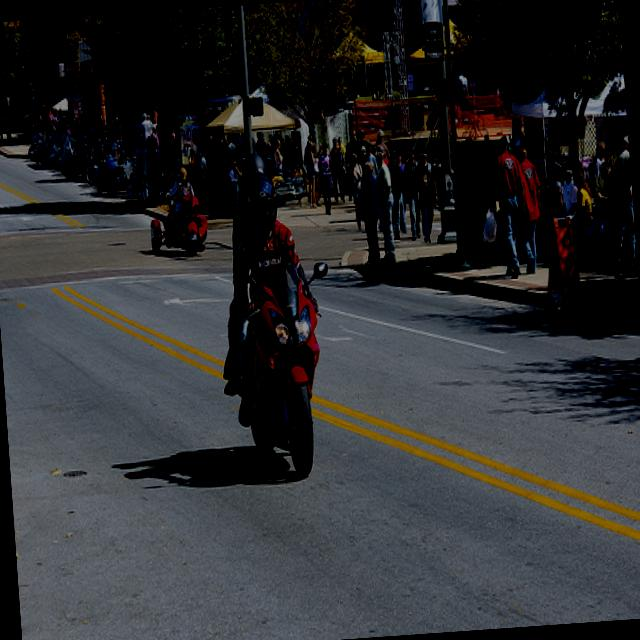Vehicle: (225, 263, 328, 488), (148, 192, 204, 258), (270, 162, 310, 208), (82, 136, 106, 188), (96, 167, 116, 198)
